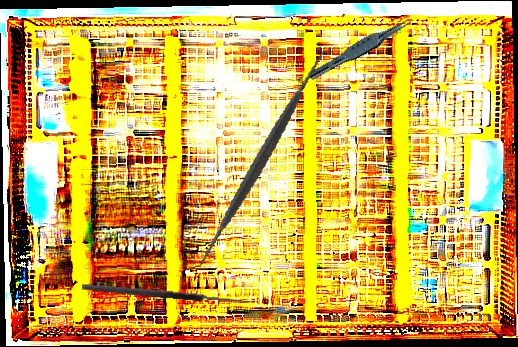Hook Surgical: (81, 274, 254, 307)
Spatula Surgical: (155, 49, 366, 271)
Tissue Forceps: (307, 11, 415, 87)
